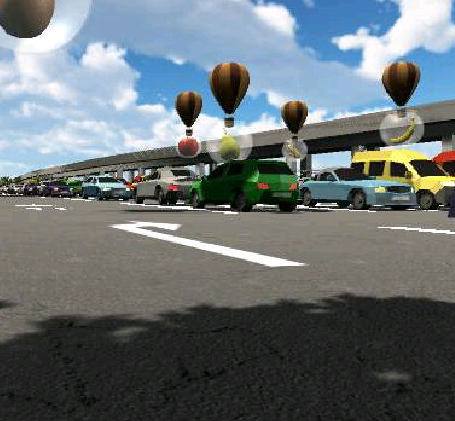ground_right: (110, 220, 184, 232)
